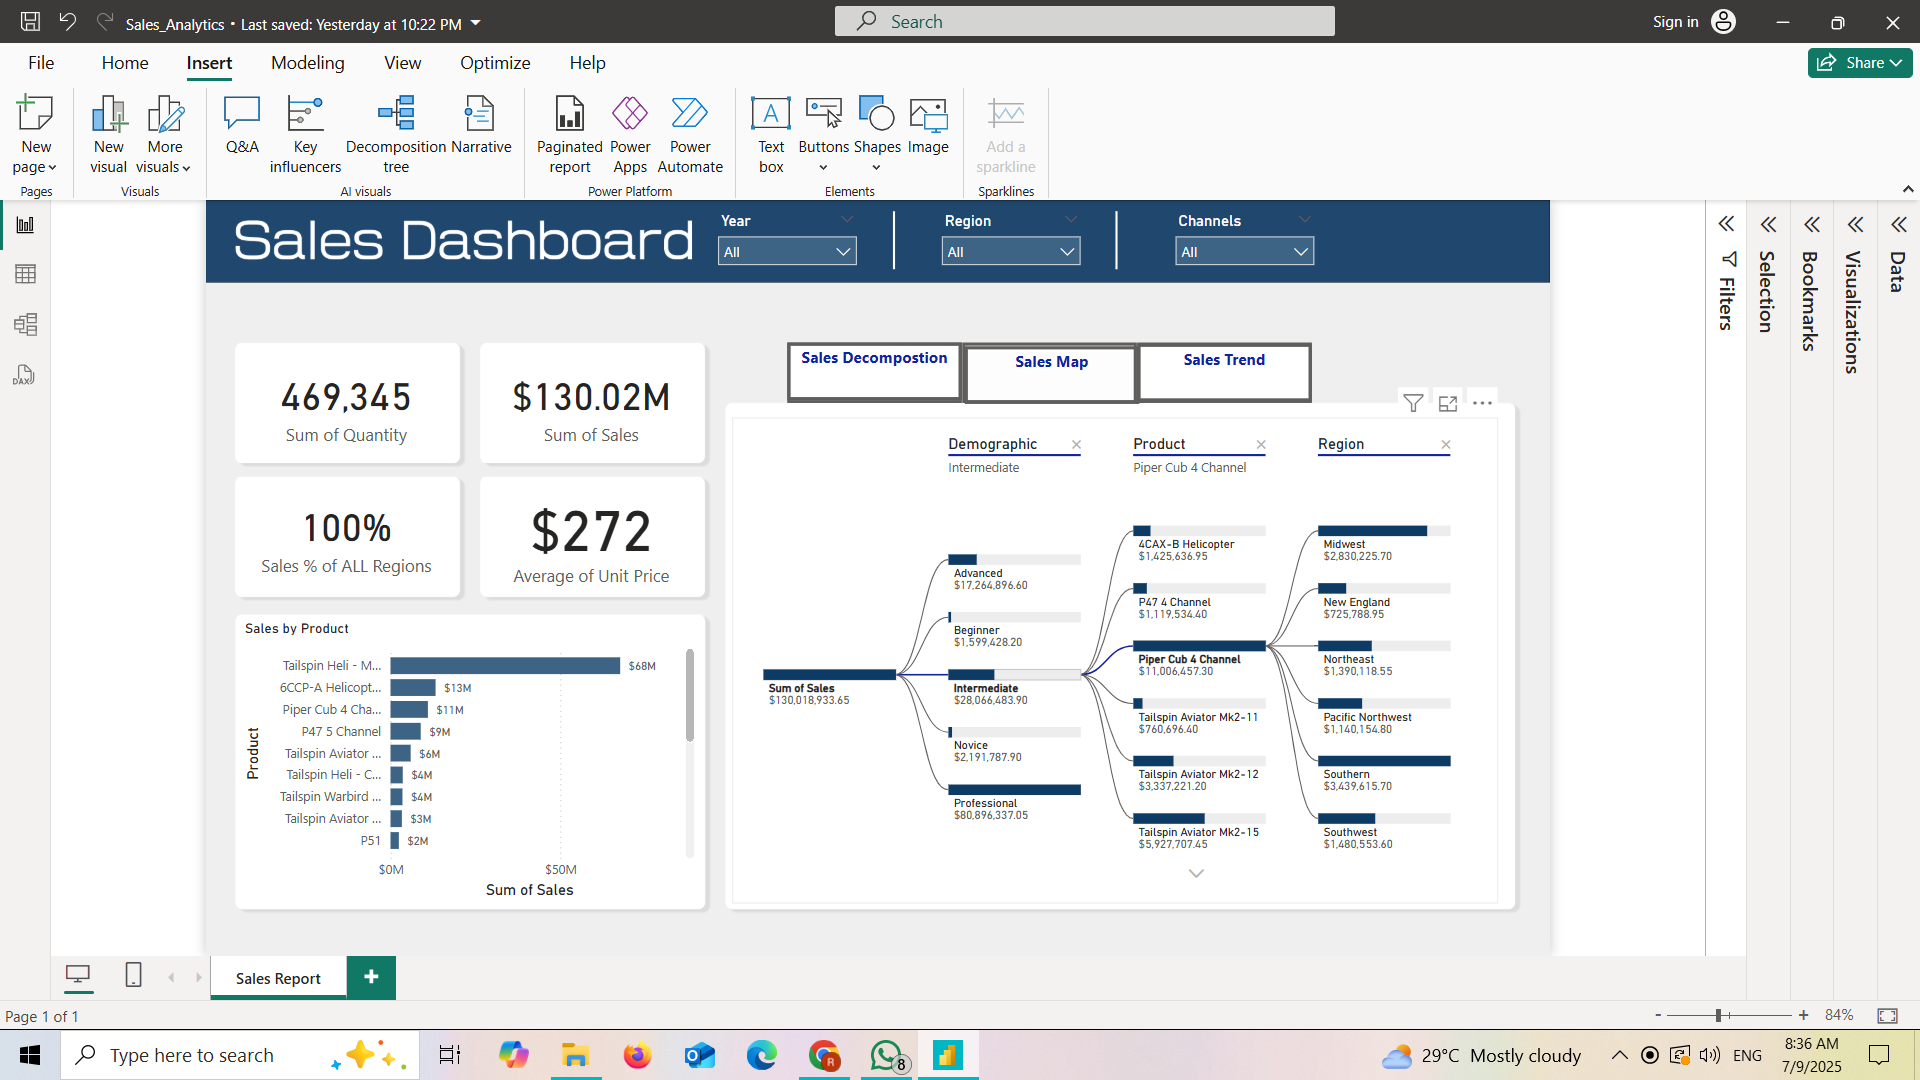

The page's visual inventory and layout, read from the dashboard file:
{"tool":"powerbi","page":{"name":"Sales Report","canvas":[1280,720],"ordinal":0},"visuals":[{"type":"card","title":"Card Quantity","fields":{"Values":["Sum(Sales.Quantity)"]},"box":[29.5,138.7,208.1,110.5],"z":0},{"type":"card","title":"Card region","fields":{"Values":["Sales.Sales % of ALL Regions"]},"box":[29.5,264.6,208.1,110.5],"z":1000},{"type":"card","title":" Card sales","fields":{"Values":["Sum(Sales.Sales)"]},"box":[263.4,138.7,208.1,110.5],"z":2000},{"type":"card","title":"Card Unit price","fields":{"Values":["Avg(Sales.Unit Price)"]},"box":[263.4,264.6,208.1,110.5],"z":3000},{"type":"barChart","title":"Sales by Product","fields":{"Category":["Product.Product"],"Y":["Sum(Sales.Sales)"]},"box":[32,400,438,270],"z":4000},{"type":"slicer","fields":{"Values":["Date.Year"]},"box":[477.8,5.6,152,61],"z":5000},{"type":"slicer","fields":{"Values":["Region.Region"]},"box":[690,5.6,152.2,61.1],"z":6000},{"type":"slicer","fields":{"Values":["Product.Channels"]},"box":[913.3,5.6,152.2,61.1],"z":7000},{"type":"shape","box":[620,11.1,70,55.6],"z":8000},{"type":"shape","box":[832.2,11.1,70,55.6],"z":9000},{"type":"actionButton","title":"btn active:Decomposition","box":[553.8,135.9,166.3,54.9],"z":10000},{"type":"actionButton","title":"btn active:Trend","box":[886.4,137.4,166.3,54.9],"z":11000},{"type":"actionButton","title":" btn active:map","box":[723,138.8,166.3,54.9],"z":12000},{"type":"shapeMap","title":"Hover on state for sales map","fields":{"Category":["State.State Code"],"Value":["Sum(Sales.Sales)"]},"box":[502.3,217.4,730.2,440.7],"z":14000},{"type":"actionButton","box":[553.8,135.9,166.3,57.8],"z":17001},{"type":"actionButton","box":[720.1,135.9,166.3,57.8],"z":17002},{"type":"actionButton","box":[886.4,135.9,166.3,57.8],"z":17003}]}

Visuals, with their boxes on the page's 1280x720 design canvas (x1, y1, x2, y2). These are canvas units, not pixel positions in the 1920x1080 screenshot, which may show the page scaled, cropped or inside an application window:
"Card Quantity" card: <region>30, 139, 238, 249</region>
"Card region" card: <region>30, 265, 238, 375</region>
" Card sales" card: <region>263, 139, 472, 249</region>
"Card Unit price" card: <region>263, 265, 472, 375</region>
"Sales by Product" barChart: <region>32, 400, 470, 670</region>
slicer - Date.Year: <region>478, 6, 630, 67</region>
slicer - Region.Region: <region>690, 6, 842, 67</region>
slicer - Product.Channels: <region>913, 6, 1066, 67</region>
shape: <region>620, 11, 690, 67</region>
shape: <region>832, 11, 902, 67</region>
"btn active:Decomposition" actionButton: <region>554, 136, 720, 191</region>
"btn active:Trend" actionButton: <region>886, 137, 1053, 192</region>
" btn active:map" actionButton: <region>723, 139, 889, 194</region>
"Hover on state for sales map" shapeMap: <region>502, 217, 1232, 658</region>
actionButton: <region>554, 136, 720, 194</region>
actionButton: <region>720, 136, 886, 194</region>
actionButton: <region>886, 136, 1053, 194</region>
